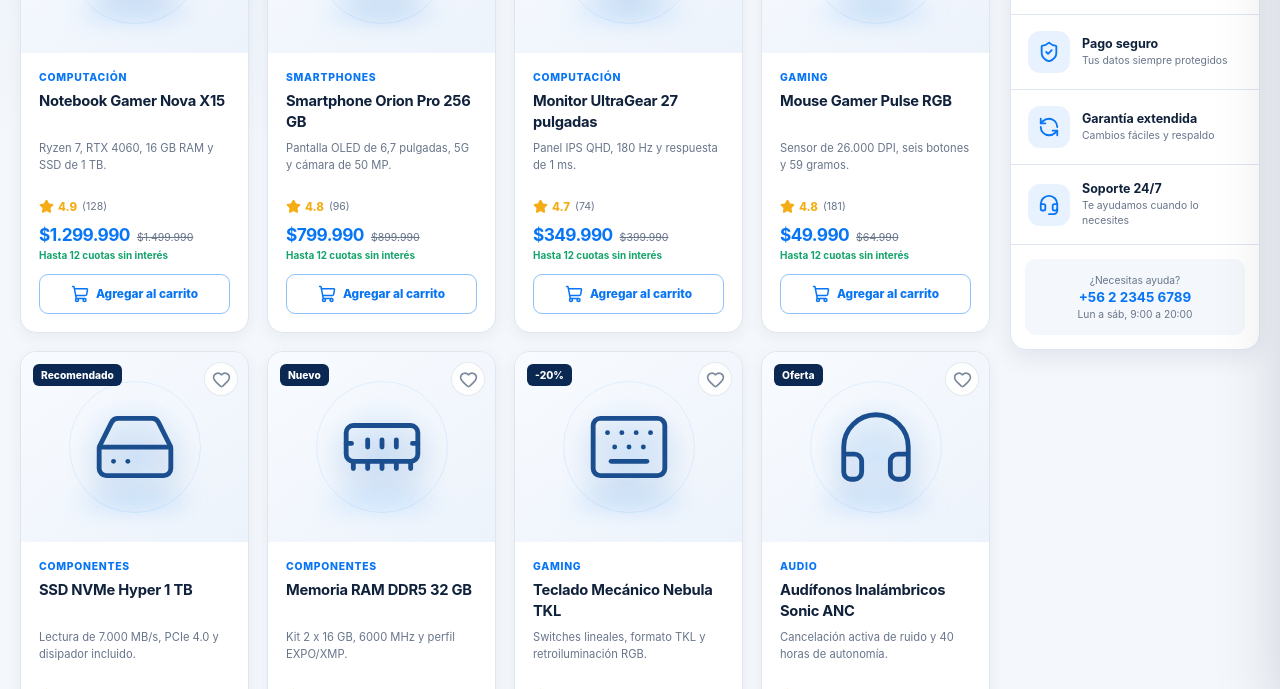
it: TechStore › actualiza el contador del carrito al agregar un producto
(page scrolled)
Click the button "Agregar al carrito" below "$1.299.990". click: {"x": 134, "y": 294}
box: [39,274,230,314]
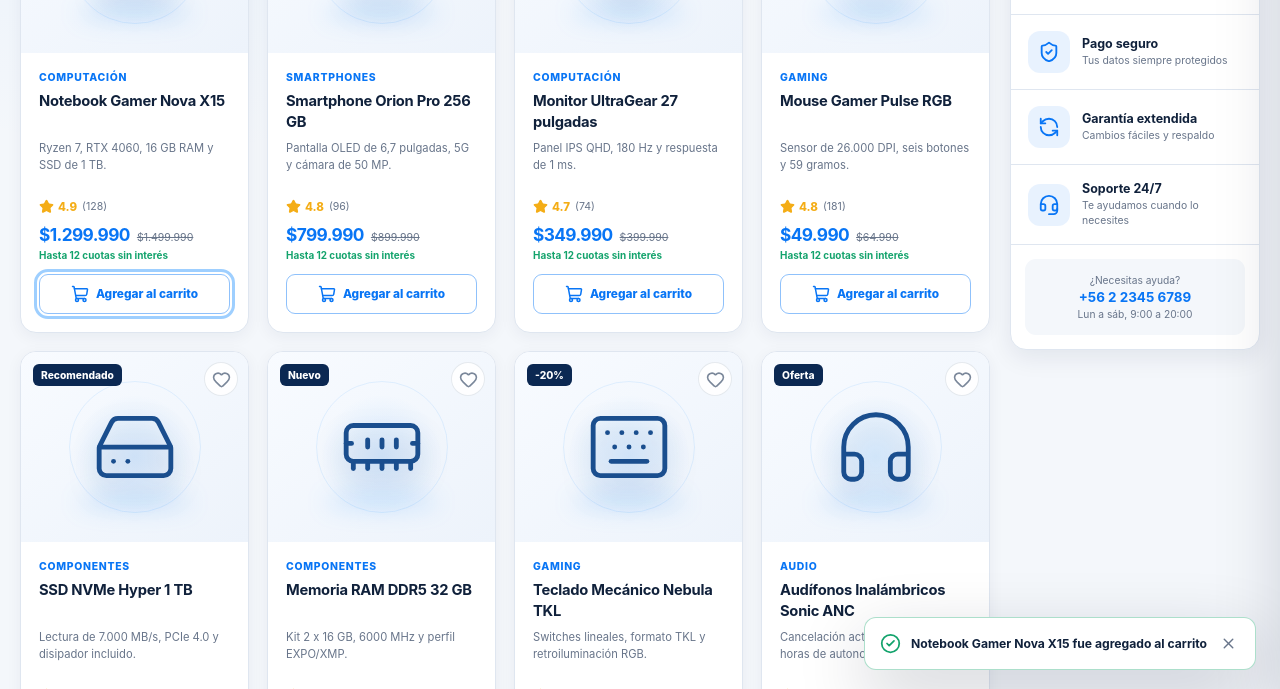
Now the message reads "Notebook Gamer Nova X15 fue agregado al carrito", box [911,636,1207,651]
